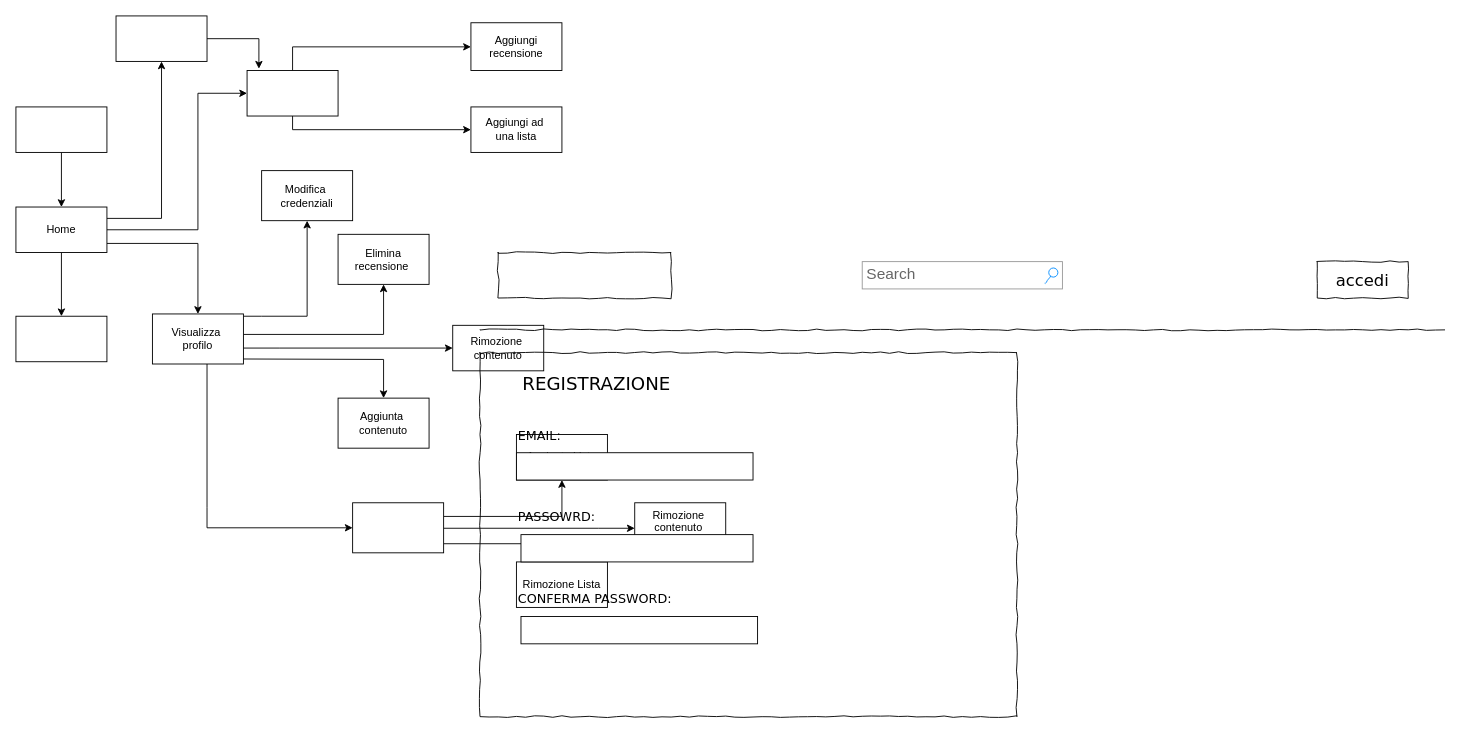
The diagram is 1461 pixels wide and 733 high, and some of its shapes have lost their labels. The shapes that lost their labels are listed below. From the top down, each one's box as (x1, y1, x2, y2) in pixels, then its label:
(115, 15, 207, 61): Ricerca contenuto
(246, 70, 338, 116): Visualizza contenuto
(15, 106, 107, 152): Login
(497, 252, 671, 298): LOGO
(15, 315, 107, 362): Logout
(352, 502, 444, 553): Gestione liste
